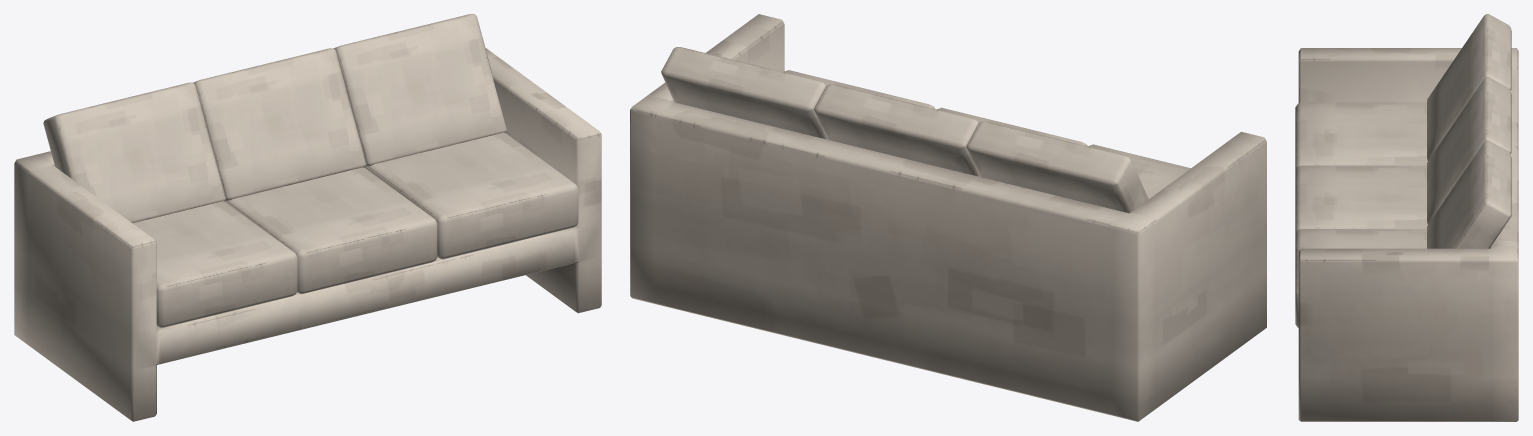
The model's file is tf2_-_couch.glb.
3 views of the same model, side by side, from view 1: azimuth 30°, elevation 25°; view 2: azimuth 150°, elevation 25°; view 3: azimuth 270°, elevation 25° (orthographic). The views are drawn at different scales.
Parts seen in each view (by area): view 1: pillow06; view 2: pillow06; view 3: pillow06.
Part boxes in pixels (box(x1,y1,x2,y2)): pillow06: box(14, 14, 601, 421); pillow06: box(630, 14, 1266, 421); pillow06: box(1295, 14, 1518, 421).
Bounding box in the file's own units: 10775 × 4955 × 4796.
Materials: 2 (2 with a texture image).
